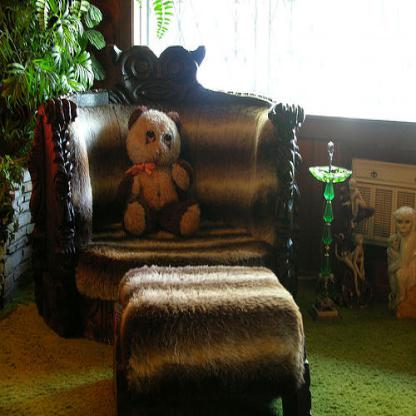chair: (28, 44, 306, 344)
